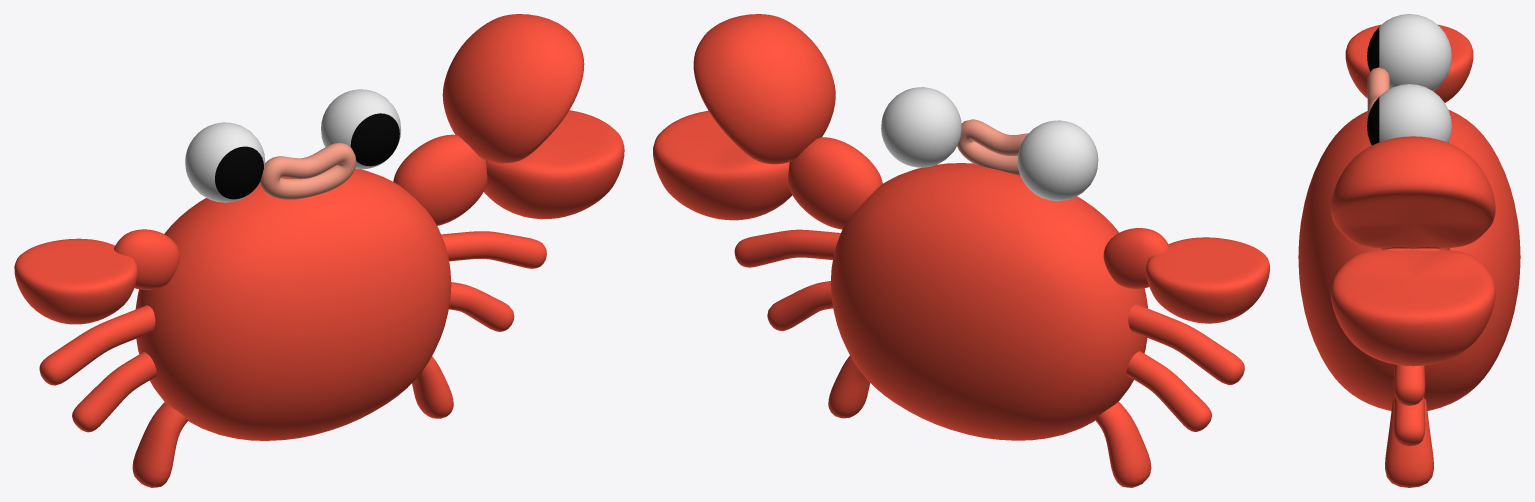
The model's file is crab.glb.
3 renders of one model, left to right at view 1: azimuth 30°, elevation 25°; view 2: azimuth 150°, elevation 25°; view 3: azimuth 270°, elevation 25°, orthographic. The views are drawn at different scales.
Visible parts, largest first — view 1: Cube, Cube.005, Vert, Sphere, Cube.002, Cube.004, BezierCircle, Cube.001; view 2: Cube, Cube.005, Vert, Sphere, Cube.002, Cube.004, Cube.001, BezierCircle; view 3: Cube.005, Cube, Sphere, Vert, Cube.002, BezierCircle.
Part boxes in pixels (<box>): Cube: <box>135,169,451,440</box>; Cube.005: <box>442,14,624,219</box>; Vert: <box>39,231,546,487</box>; Sphere: <box>185,89,401,202</box>; Cube.002: <box>14,238,137,324</box>; Cube.004: <box>393,134,487,225</box>; BezierCircle: <box>259,142,356,199</box>; Cube.001: <box>114,229,179,289</box>; Cube: <box>830,163,1147,440</box>; Cube.005: <box>653,14,835,220</box>; Vert: <box>734,229,1244,487</box>; Sphere: <box>881,87,1098,201</box>; Cube.002: <box>1146,237,1269,323</box>; Cube.004: <box>788,137,882,229</box>; Cube.001: <box>1103,228,1169,288</box>; BezierCircle: <box>957,119,1028,175</box>; Cube.005: <box>1330,136,1495,366</box>; Cube: <box>1298,110,1520,410</box>; Sphere: <box>1367,14,1451,145</box>; Vert: <box>1385,364,1433,487</box>; Cube.002: <box>1345,24,1473,102</box>; BezierCircle: <box>1367,67,1389,117</box>.
Size of the model in its own units: 3.21 by 1.92 by 0.9891.
